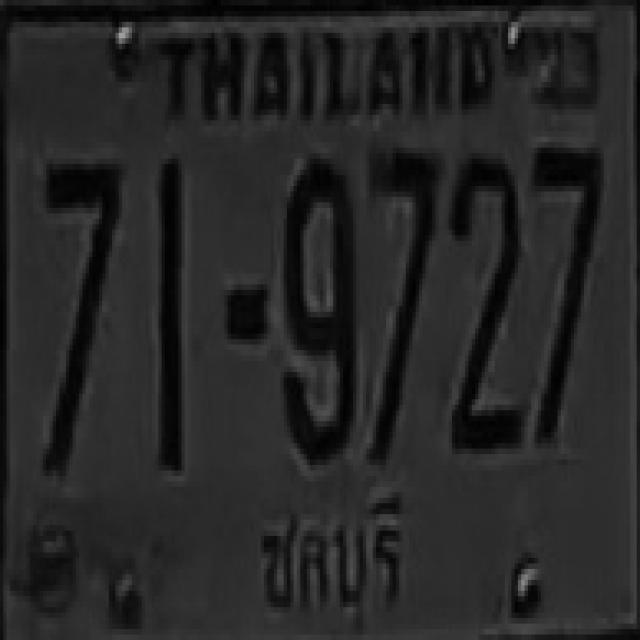0: (282, 156, 355, 462)
1: (157, 156, 183, 468)
2: (450, 153, 520, 449)
7: (43, 158, 119, 470), (368, 148, 437, 460), (531, 142, 601, 443), (43, 159, 119, 410)
9: (282, 153, 355, 460)
Chonburi: (253, 481, 404, 630)
